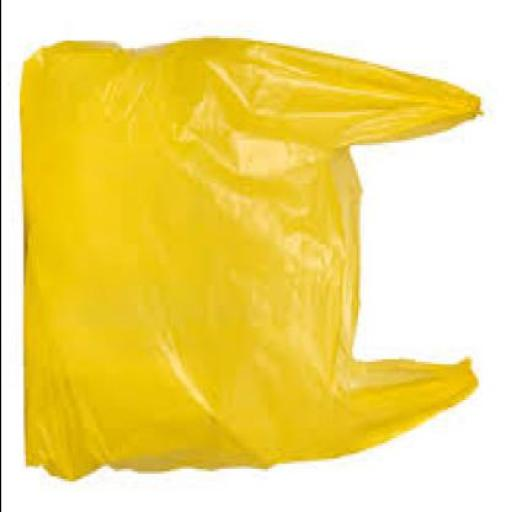plastic: (20, 36, 483, 478)
